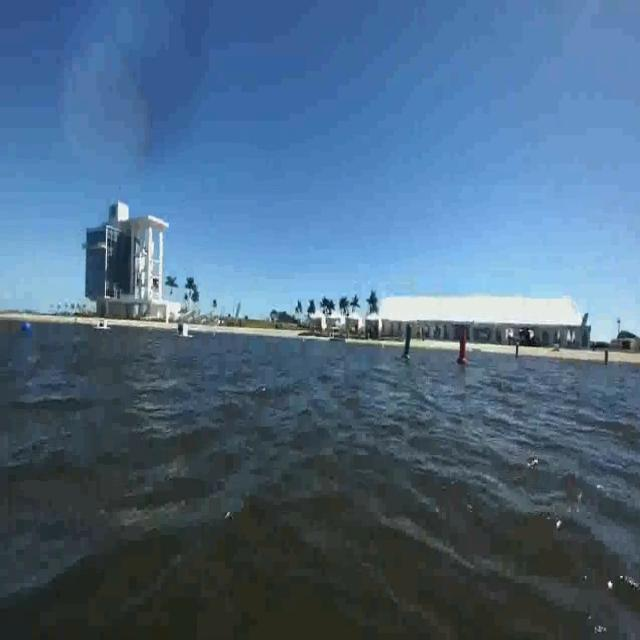green-column-buoy: (403, 325, 415, 362)
red-column-buoy: (458, 322, 471, 364)
